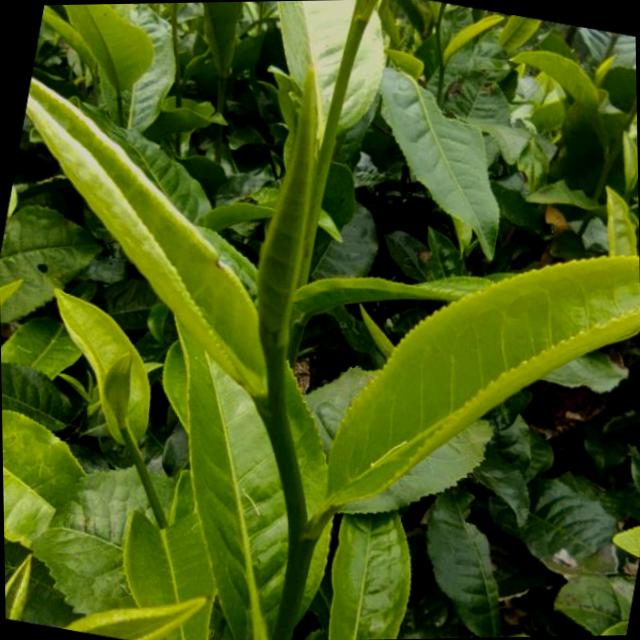Stem: (256, 405, 296, 462), (120, 426, 138, 453)
